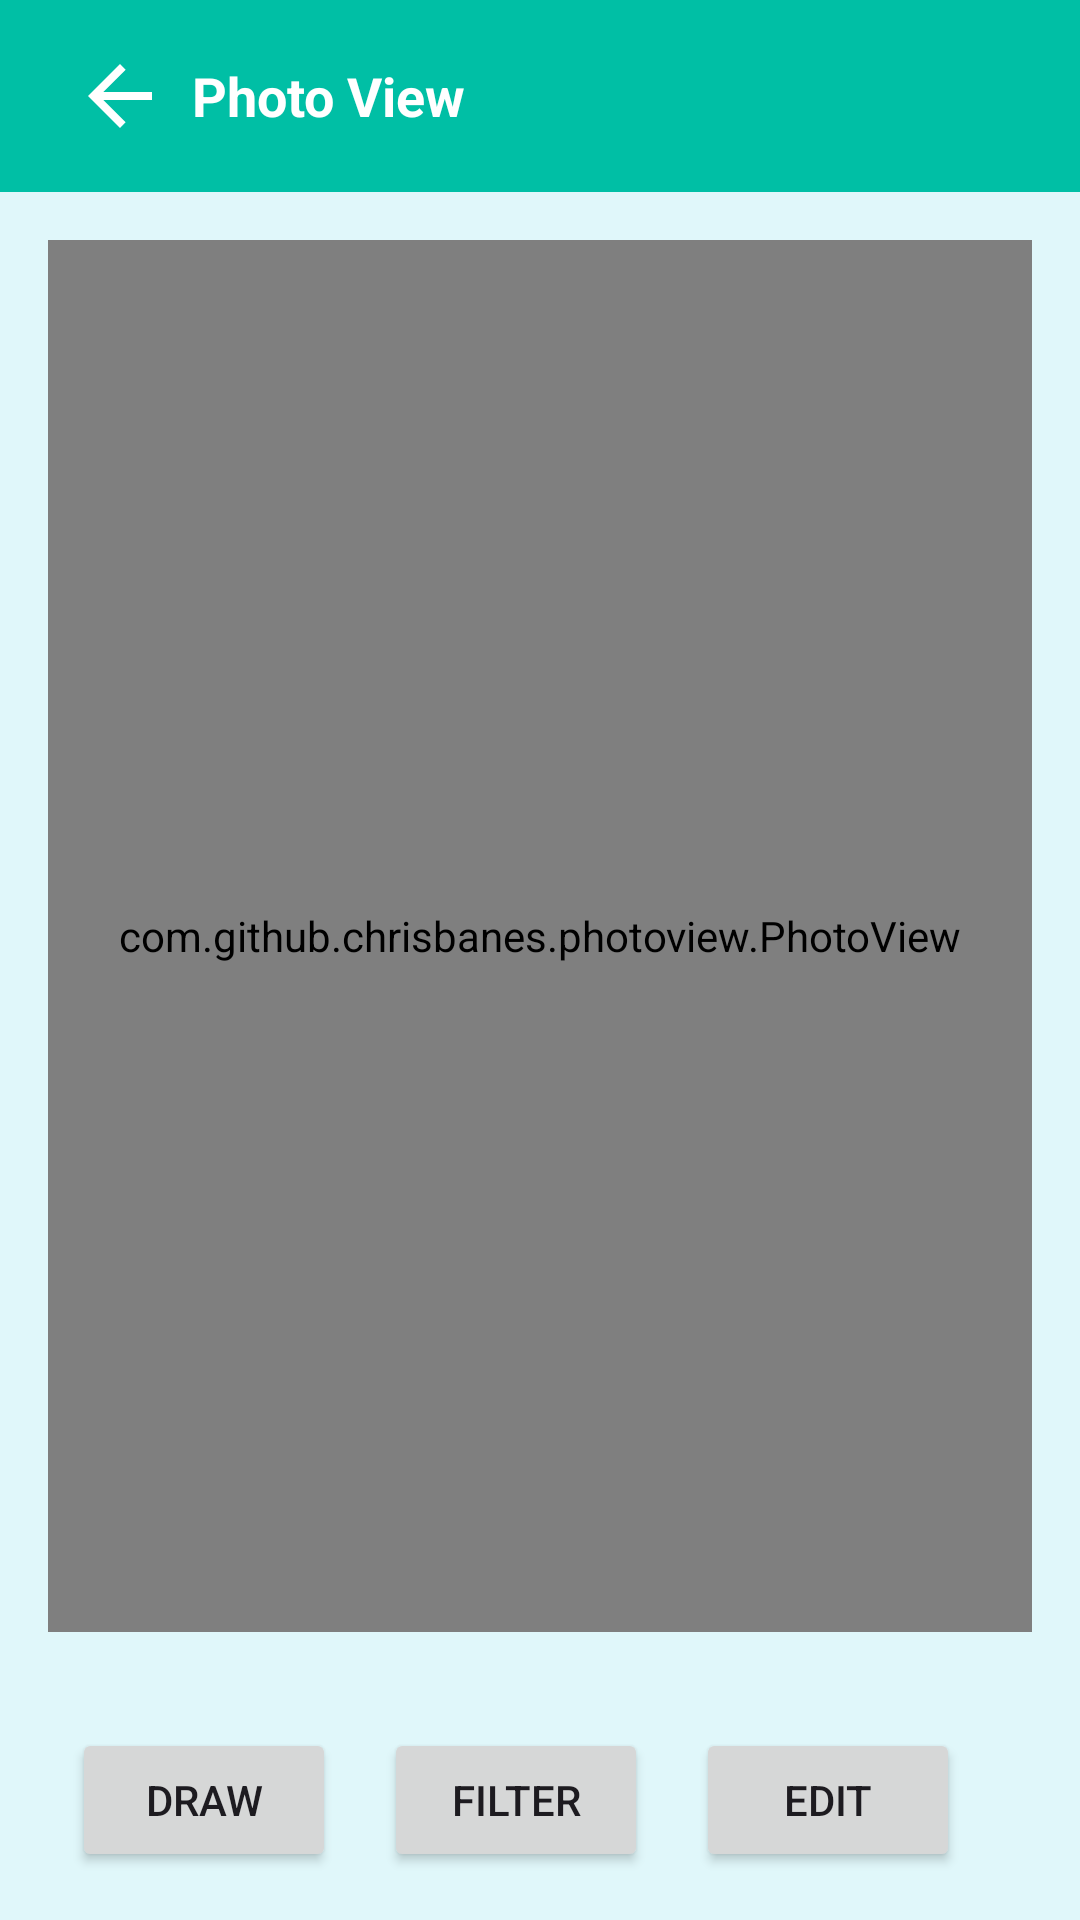

Named icons in this screenshot (1080 x 1920) and their centers, (x=x, y=y):
Back: (x=120, y=96)
